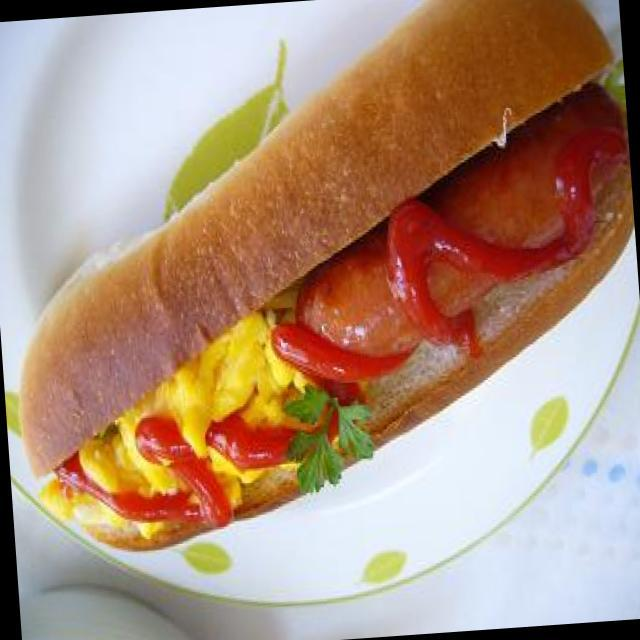Hot Dog: (0, 0, 640, 564)
